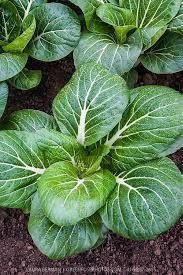Healthy-Pechay: (15, 74, 183, 235), (48, 17, 183, 68)
